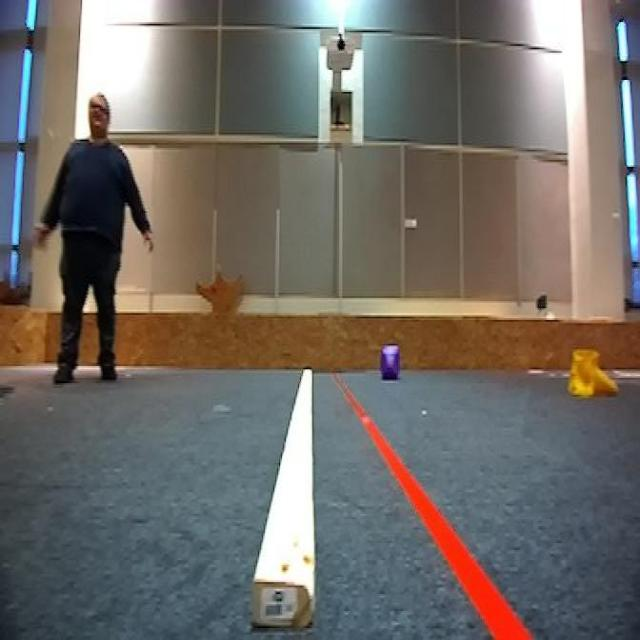frc_cone: (566, 346, 617, 402)
frc_cube: (379, 342, 403, 380)
